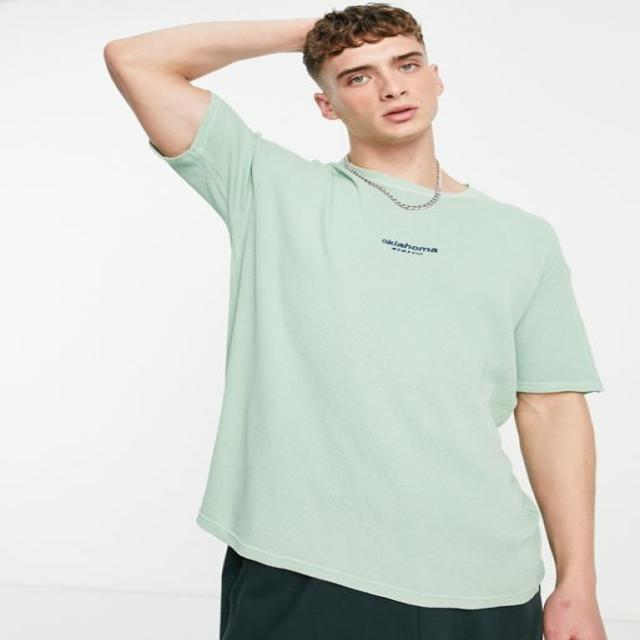tshirt: (151, 95, 600, 608)
